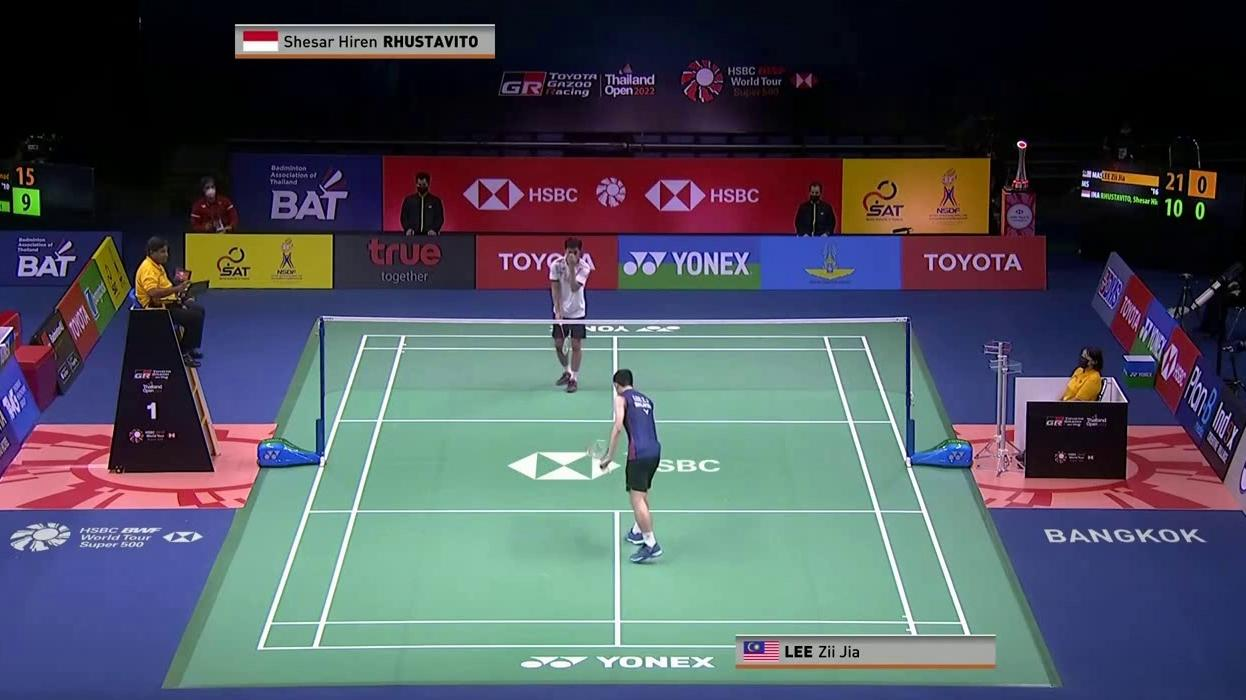racket: (587, 439, 640, 461), (556, 311, 571, 355)
shuttle: (598, 461, 612, 474)
